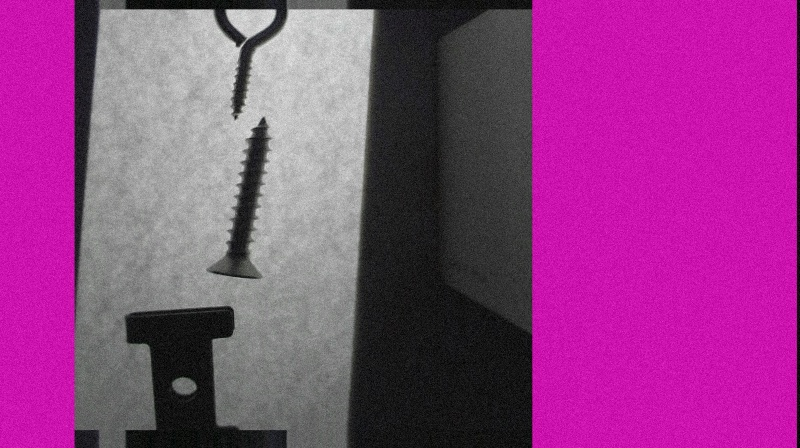O001: (210, 0, 286, 118)
O002: (124, 303, 240, 447)
S001: (205, 114, 272, 278)
